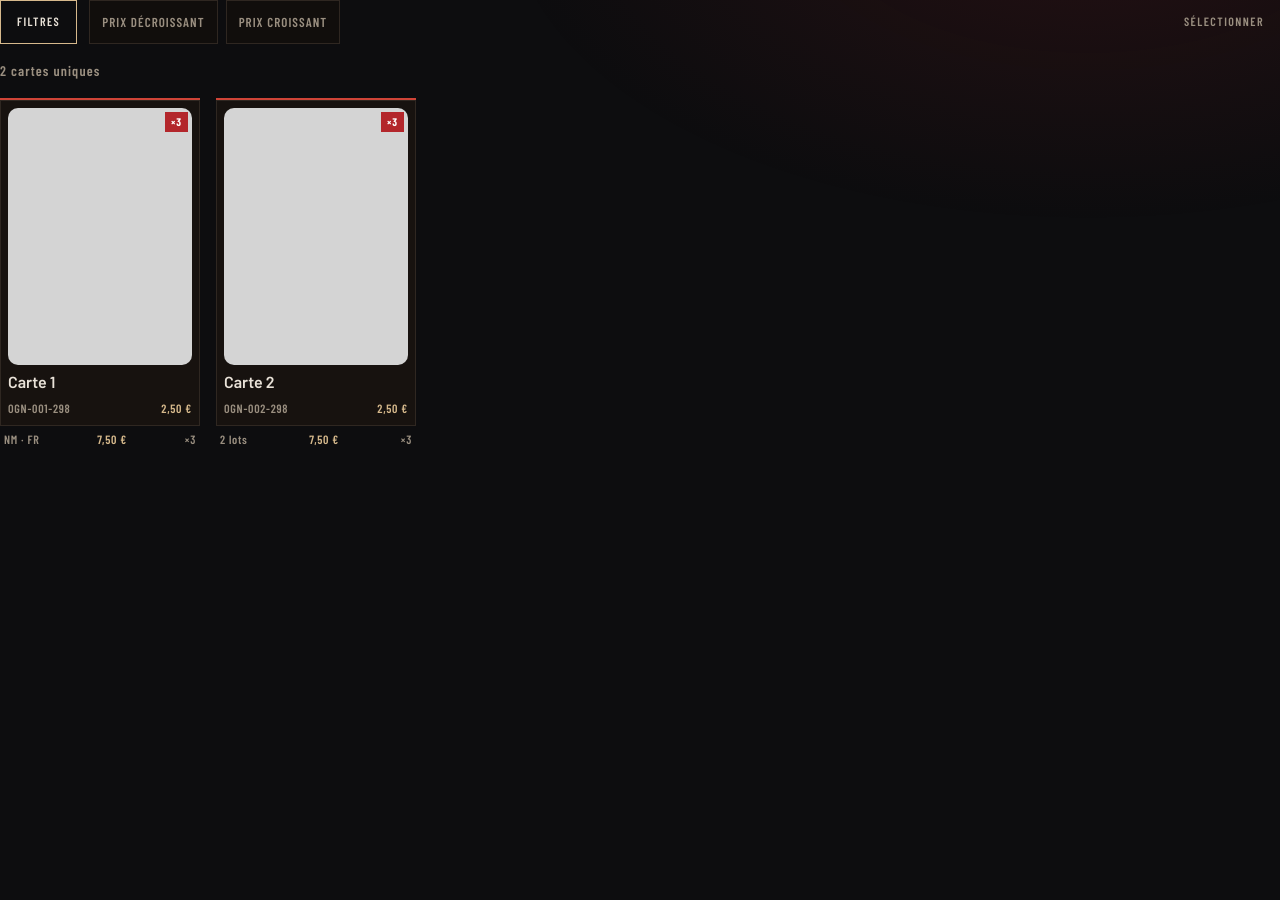
CollectionInventory › après un retrait réussi, le focus revient sur « Terminer la sélection »
This screenshot has width=1280, height=900.
Click the button "Sélectionner".
click(1224, 22)  # box [1168,0,1279,44]
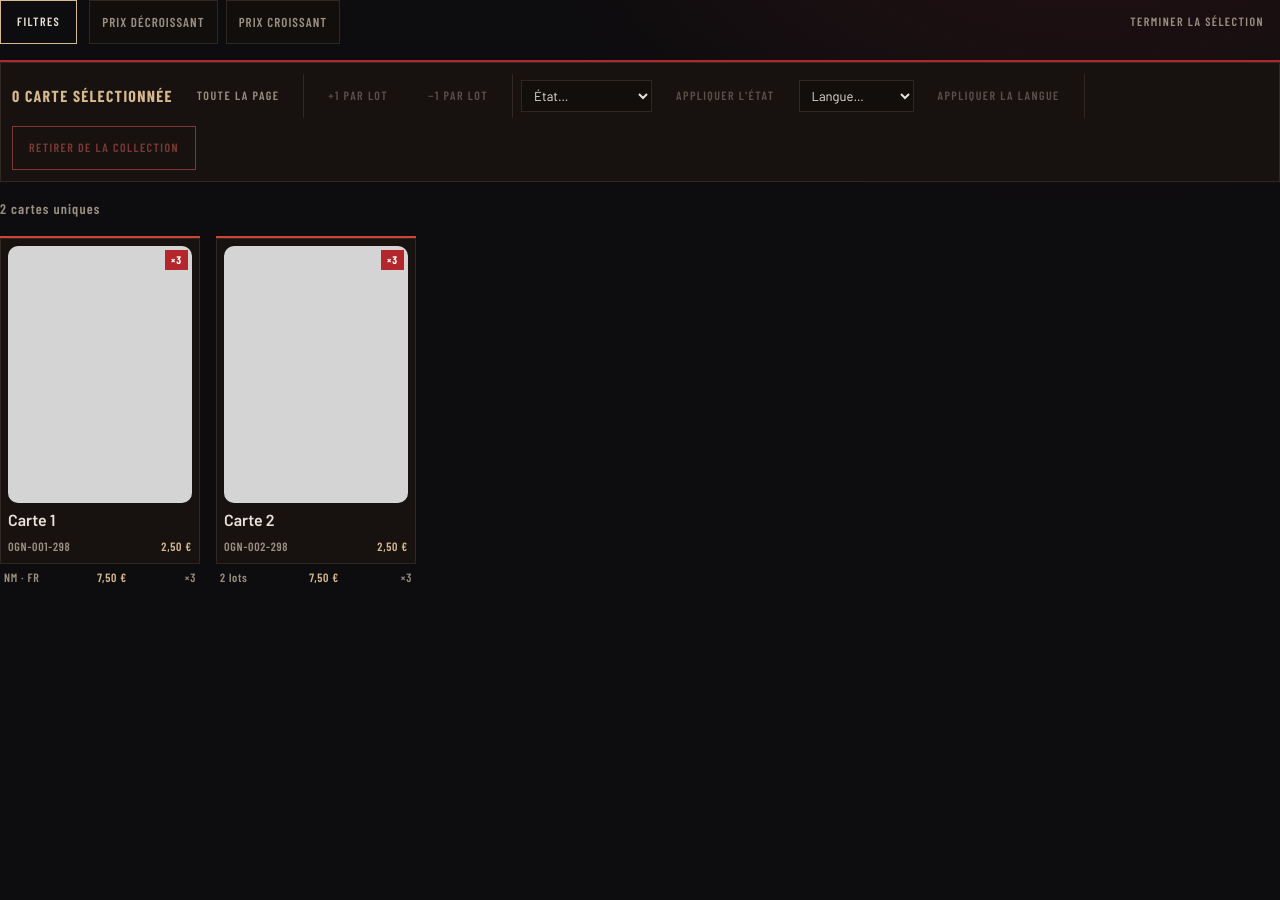
Click the button with class "inventaire-pick" showing "×3 Carte 1 OGN-001-298 2,50 €".
click(100, 400)  # box [0,236,200,564]
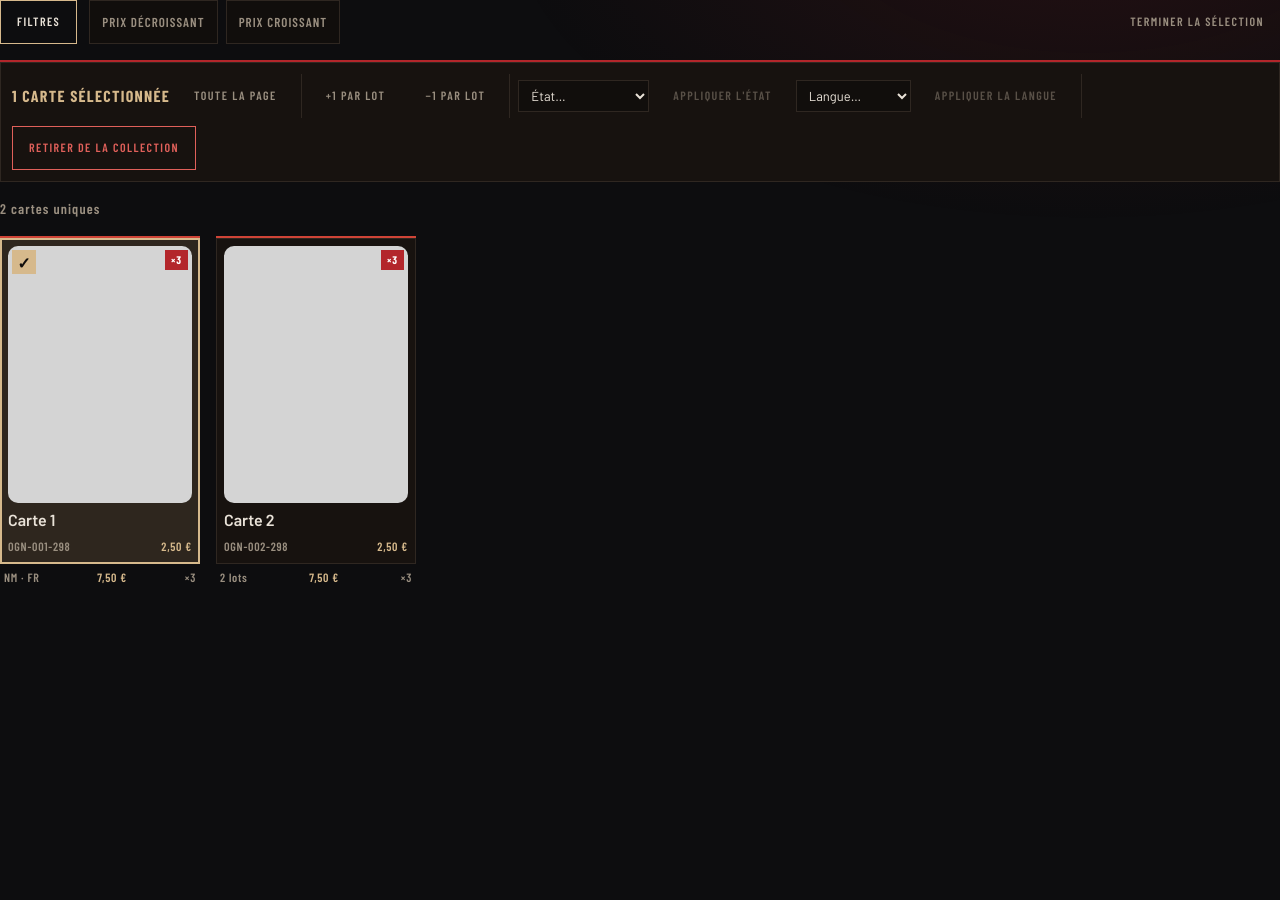
Click the button "Retirer de la collection".
click(104, 148)  # box [12,126,196,170]
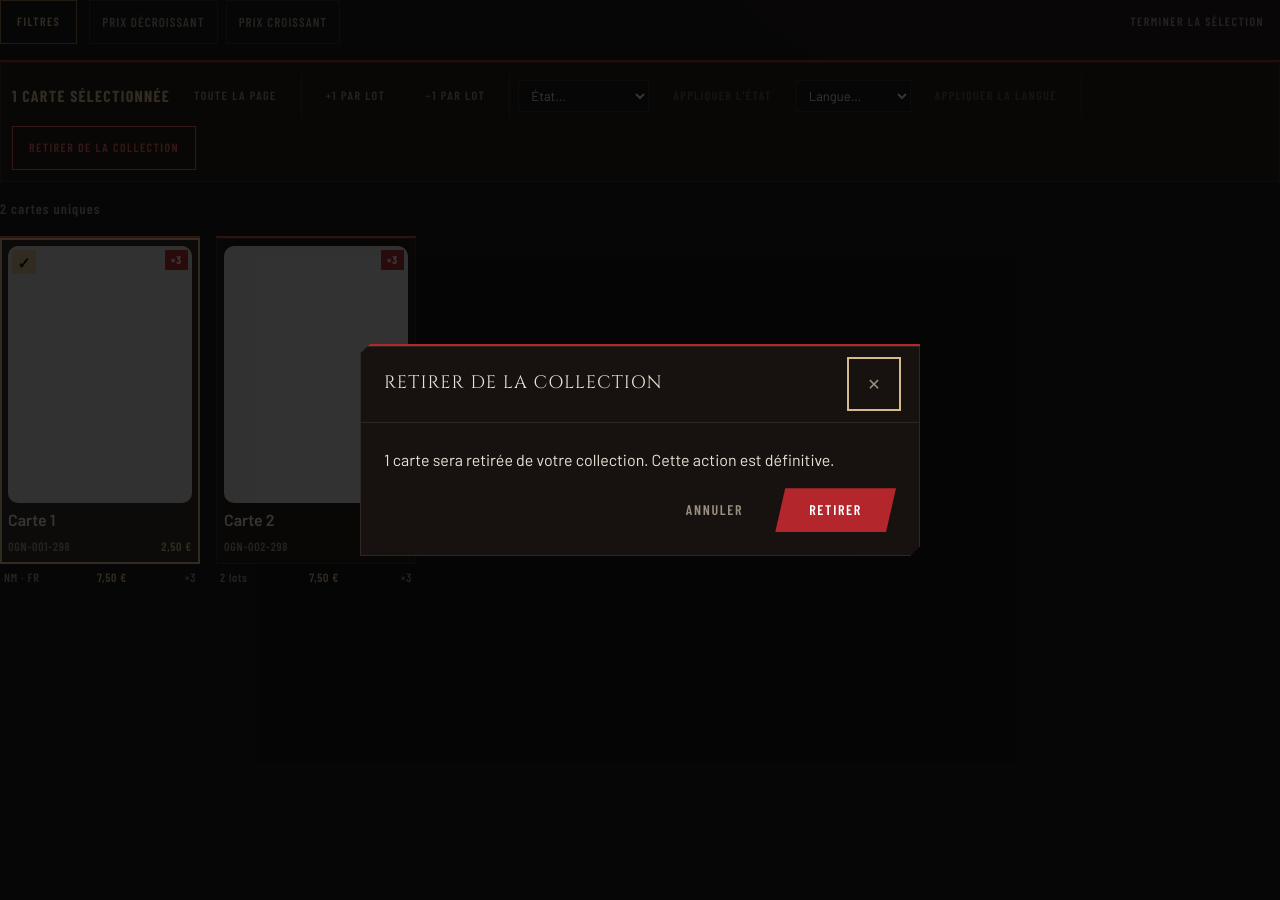
Click the button "Retirer".
click(836, 510)  # box [775,488,896,532]
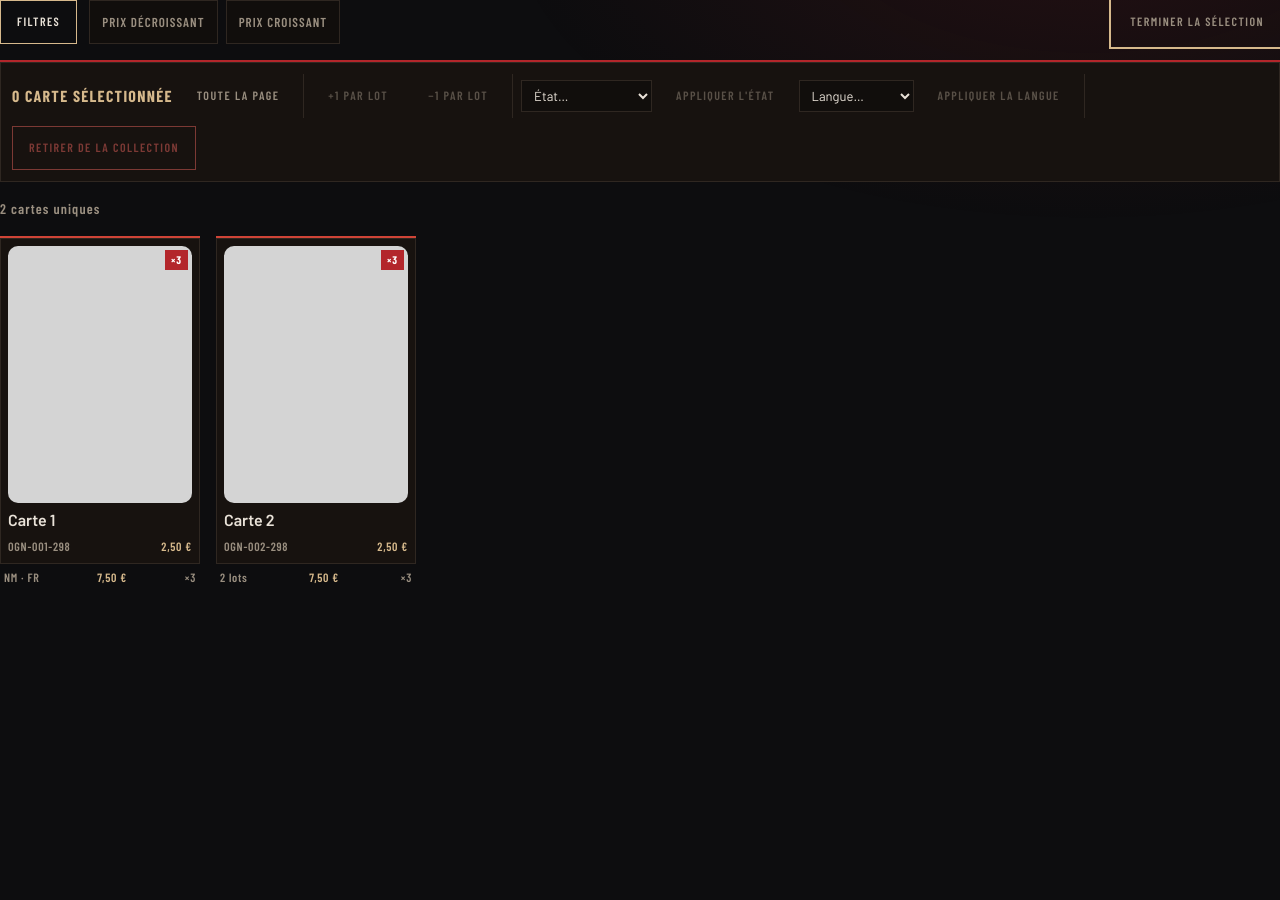
Now the dialog with class "rift-modal" is gone
